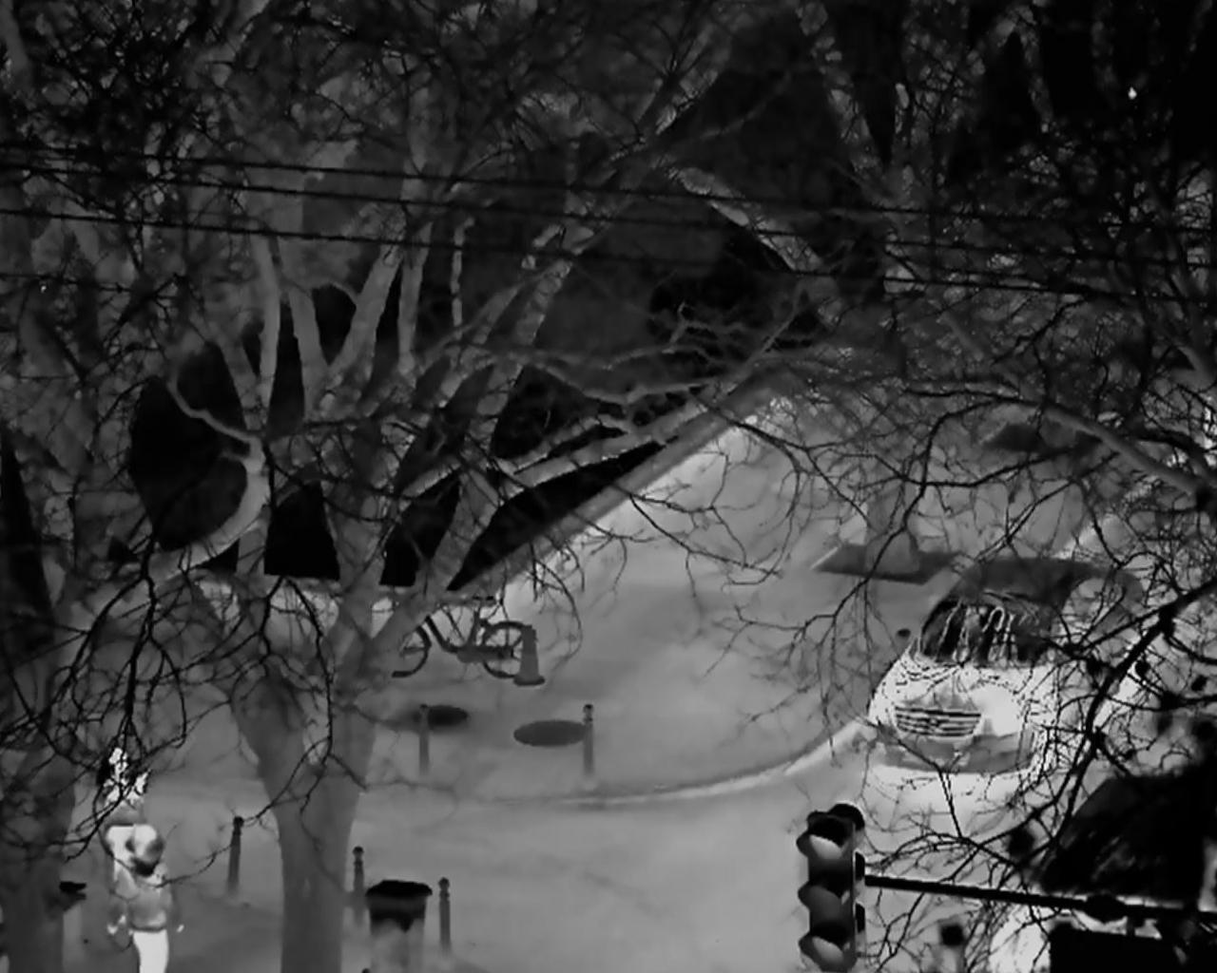person: (107, 822, 184, 973)
